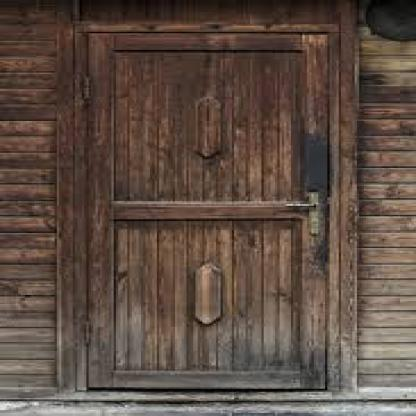door: (73, 28, 350, 397)
